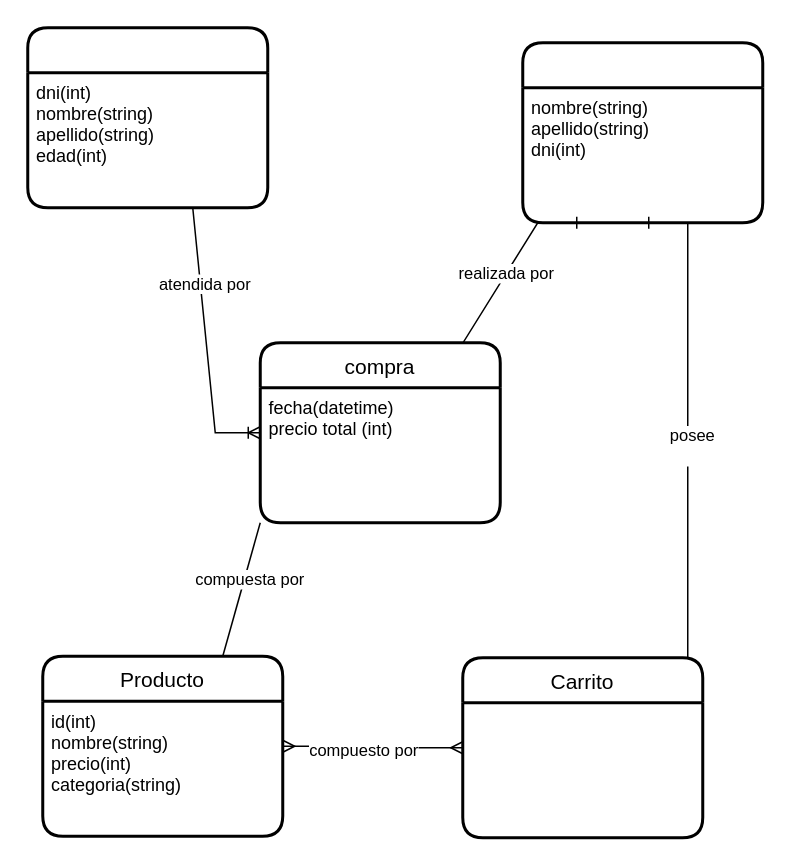
This 789x864 diagram has some shape labels left out. Each missing label, with the box of its shape:
Cliente: (520, 40, 764, 224)
Empleado: (26, 26, 268, 208)
